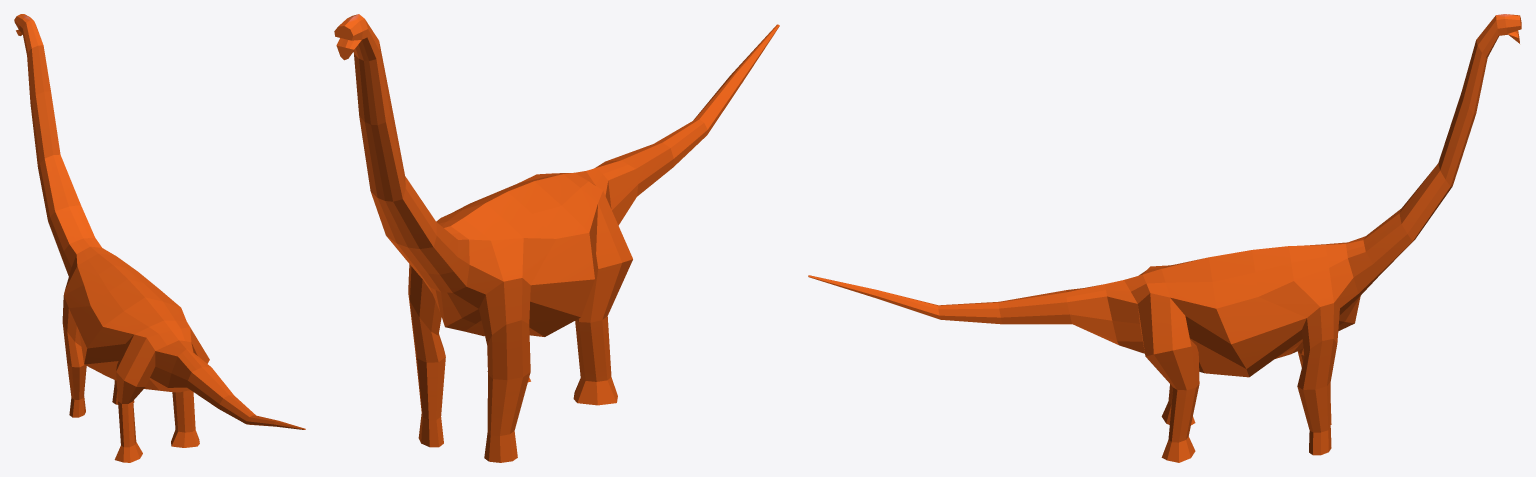
The model's file is dino.fbx.
The picture shows the model from 3 angles, left to right: view 1: azimuth 30°, elevation 25°; view 2: azimuth 150°, elevation 25°; view 3: azimuth 270°, elevation 25°; orthographic projection. The views are drawn at different scales.
Parts seen in each view (by area): view 1: Plane.004; view 2: Plane.004; view 3: Plane.004.
Boxes of the visible parts, bbox=[...] form: Plane.004: bbox=[14, 14, 305, 462]; Plane.004: bbox=[334, 14, 779, 462]; Plane.004: bbox=[808, 14, 1521, 462].
Size of the model in its own units: 74.37 by 375 by 246.
